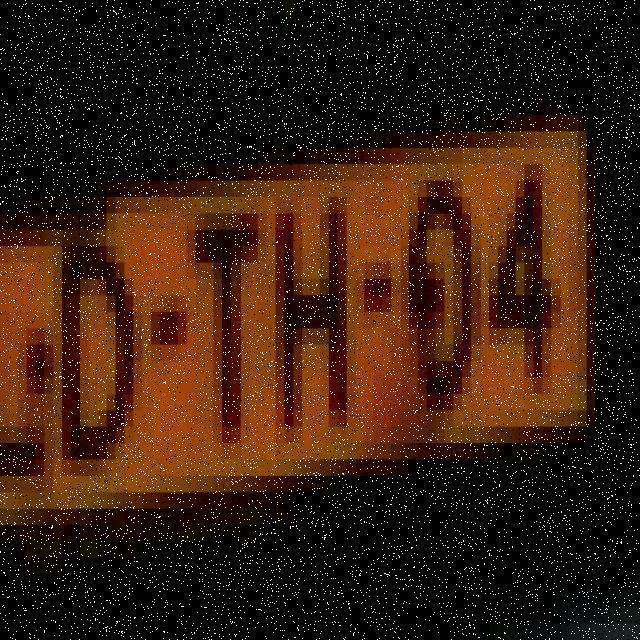License Plate: (1, 75, 604, 558)
